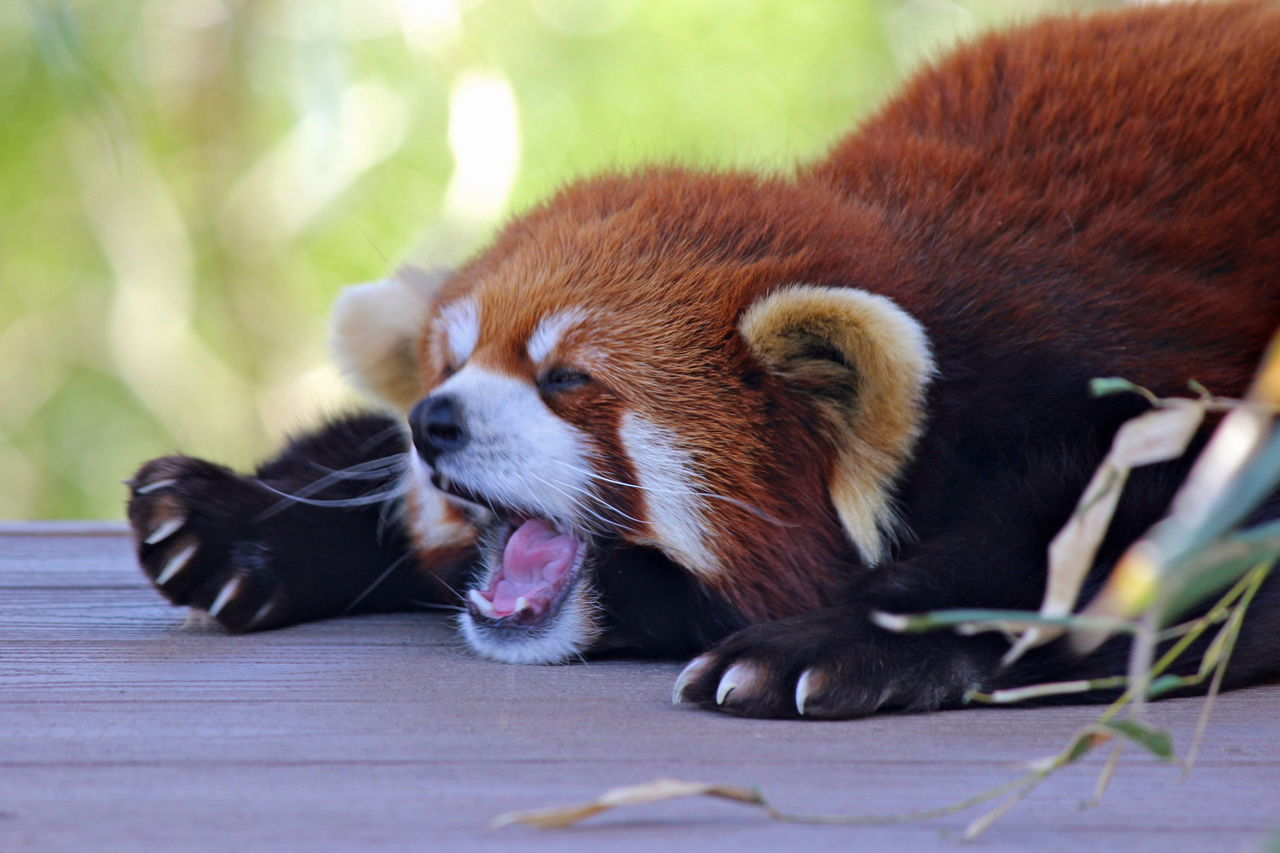red_panda: (124, 34, 1280, 721)
